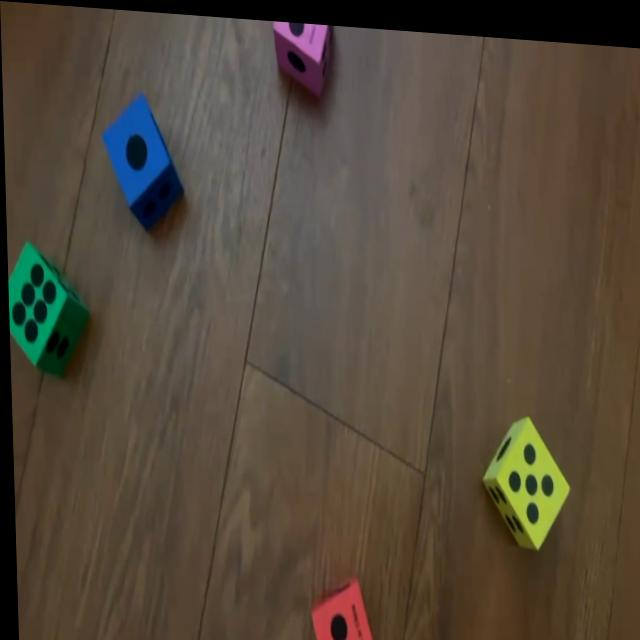blue_block: (100, 91, 183, 228)
red_block: (308, 571, 375, 640)
